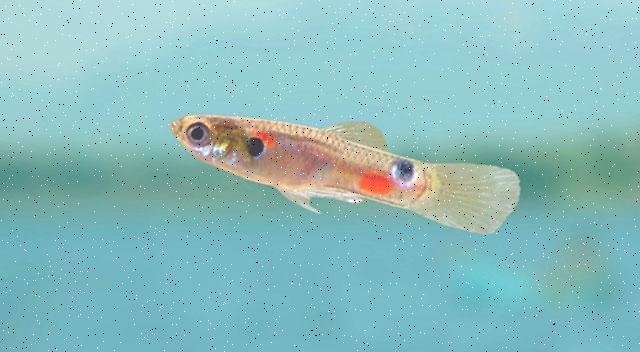Mulut: (154, 97, 198, 157)
Sirip Anal: (316, 178, 376, 210)
Sirip Ekor: (396, 152, 530, 244)
Sirip Perut: (267, 178, 329, 218)
Sirip Punggung: (311, 108, 401, 166)
